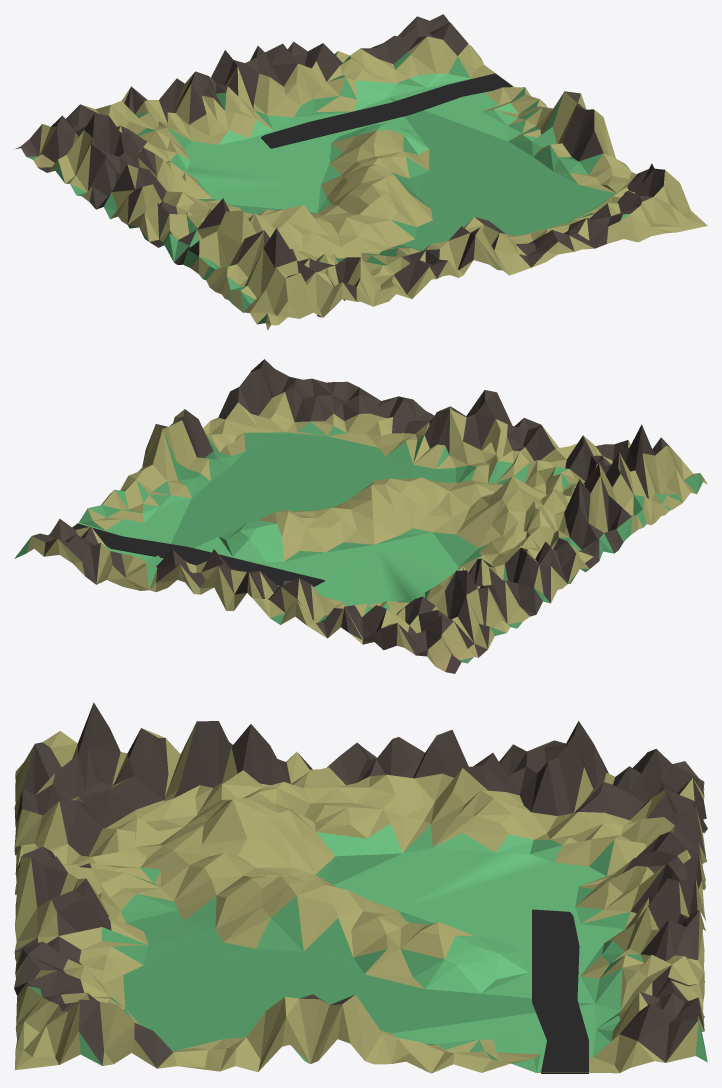
The model's file is Terrain Texutred.fbx.
The picture shows the model from 3 angles, top to bottom: view 1: azimuth 30°, elevation 25°; view 2: azimuth 150°, elevation 25°; view 3: azimuth 270°, elevation 25°; orthographic projection. The views are drawn at different scales.
Visible parts, largest first — view 1: Terrain, Road; view 2: Terrain, Road; view 3: Terrain, Road.
Boxes of the visible parts, x1=… form: Terrain: x1=14, y1=14, x2=707, y2=330; Road: x1=261, y1=73, x2=512, y2=148; Terrain: x1=14, y1=359, x2=707, y2=673; Road: x1=72, y1=523, x2=324, y2=586; Terrain: x1=14, y1=702, x2=707, y2=1073; Road: x1=532, y1=909, x2=588, y2=1073.
Size of the model in its own units: 10058 by 1703 by 10074.
